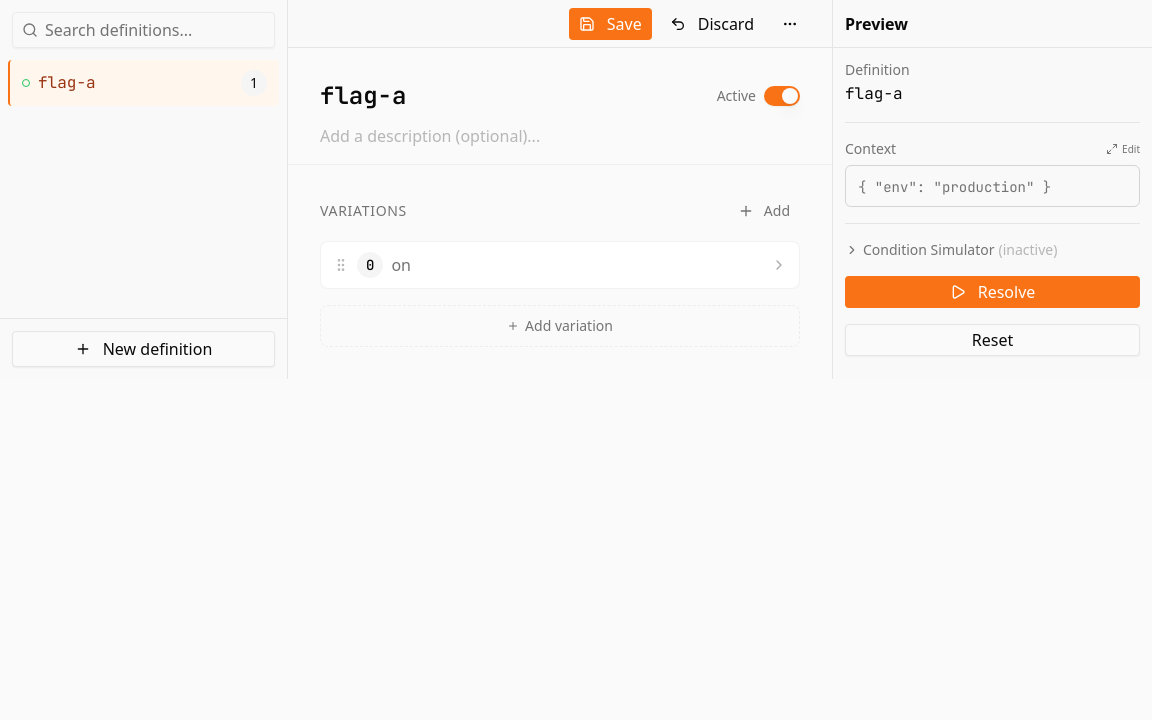
it: Configurator async action handling › swallows discardDefinition rejection via catch
The image size is (1152, 720).
Click the button "Discard".
click(712, 24)  # box [660,8,764,40]
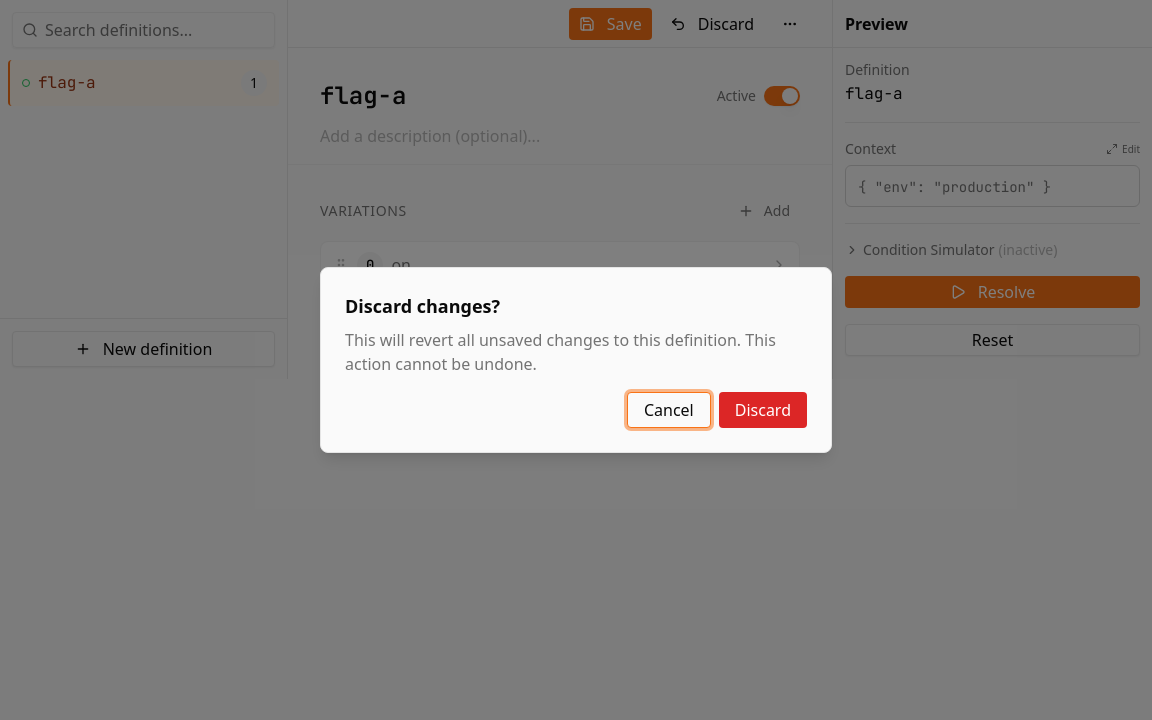
Click the button "Discard".
click(763, 410)  # box [719,392,807,428]
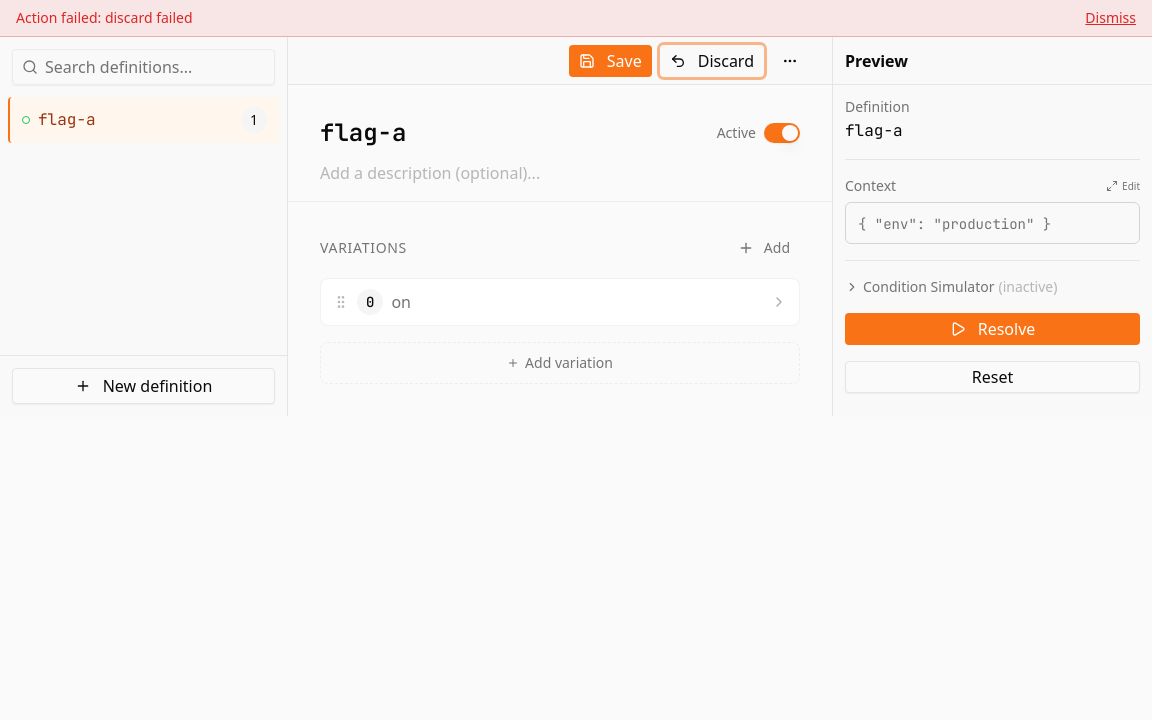
Check: the message "Action failed: discard failed Dismiss" is shown, box [0,0,1151,37]
